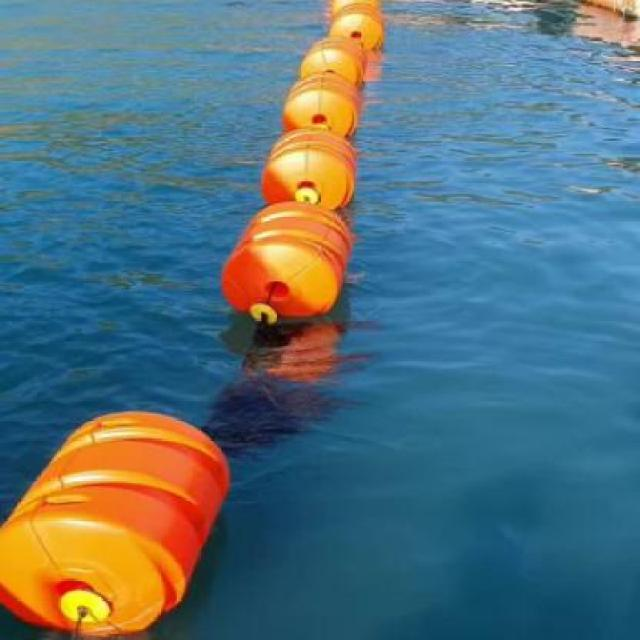a: (1, 403, 243, 640), (233, 202, 367, 328), (257, 121, 368, 221), (270, 70, 369, 149), (289, 20, 291, 25)
